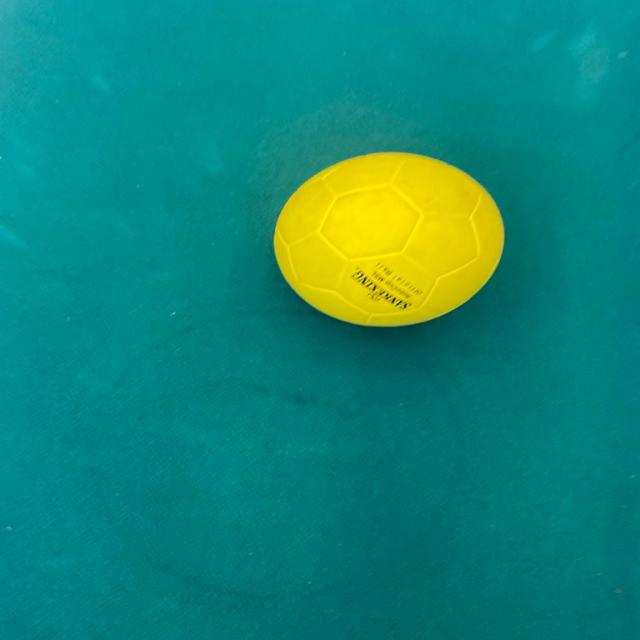ball: (244, 138, 517, 336)
